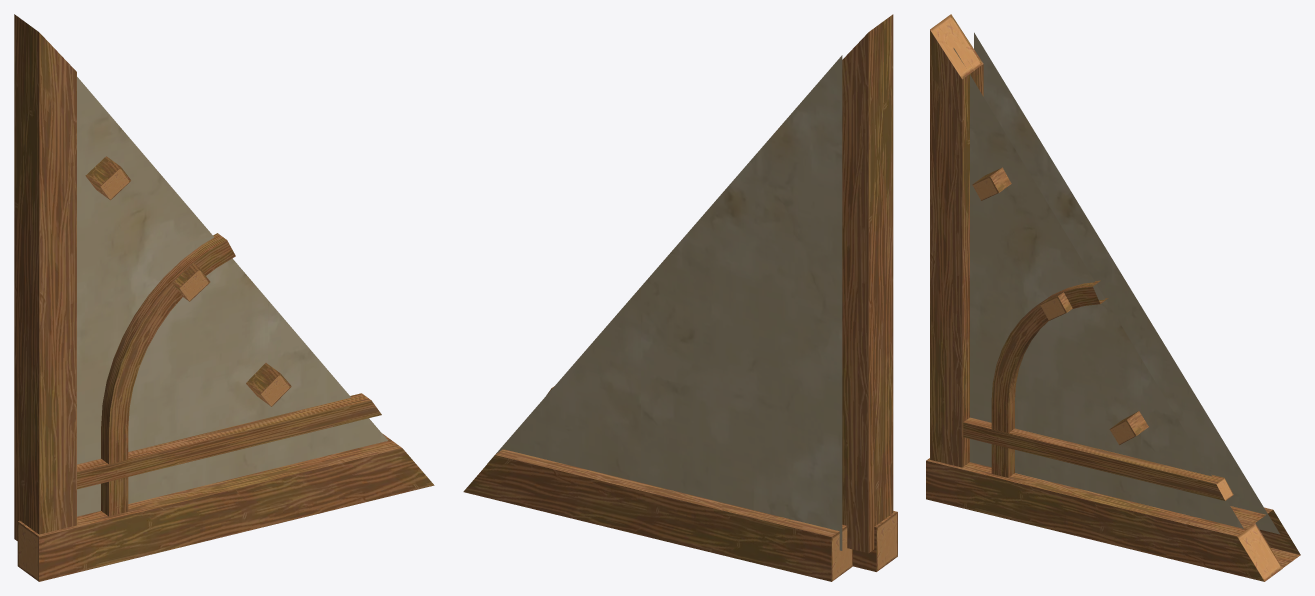
The model's file is roof_front_brick4_half_r.glb.
3 views of the same model, side by side, from view 1: azimuth 30°, elevation 25°; view 2: azimuth 150°, elevation 25°; view 3: azimuth 330°, elevation 25° (orthographic). The views are drawn at different scales.
Bounding box in the file's own units: 2.42 × 3.2 × 0.4896.
Materials: 2 (2 with a texture image).
